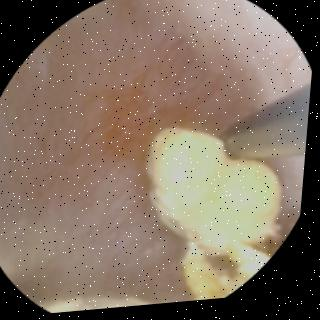stone: (149, 130, 285, 303), (51, 299, 158, 314)
tissue: (0, 0, 308, 298)
